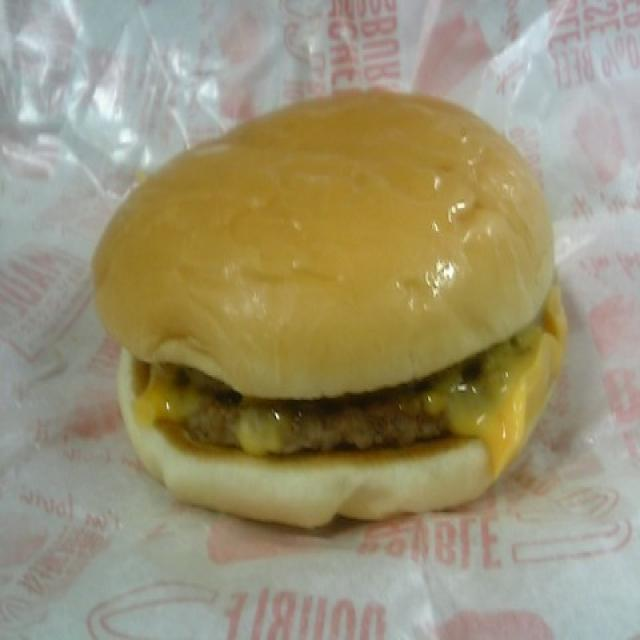Hamburger: (99, 75, 571, 542)
